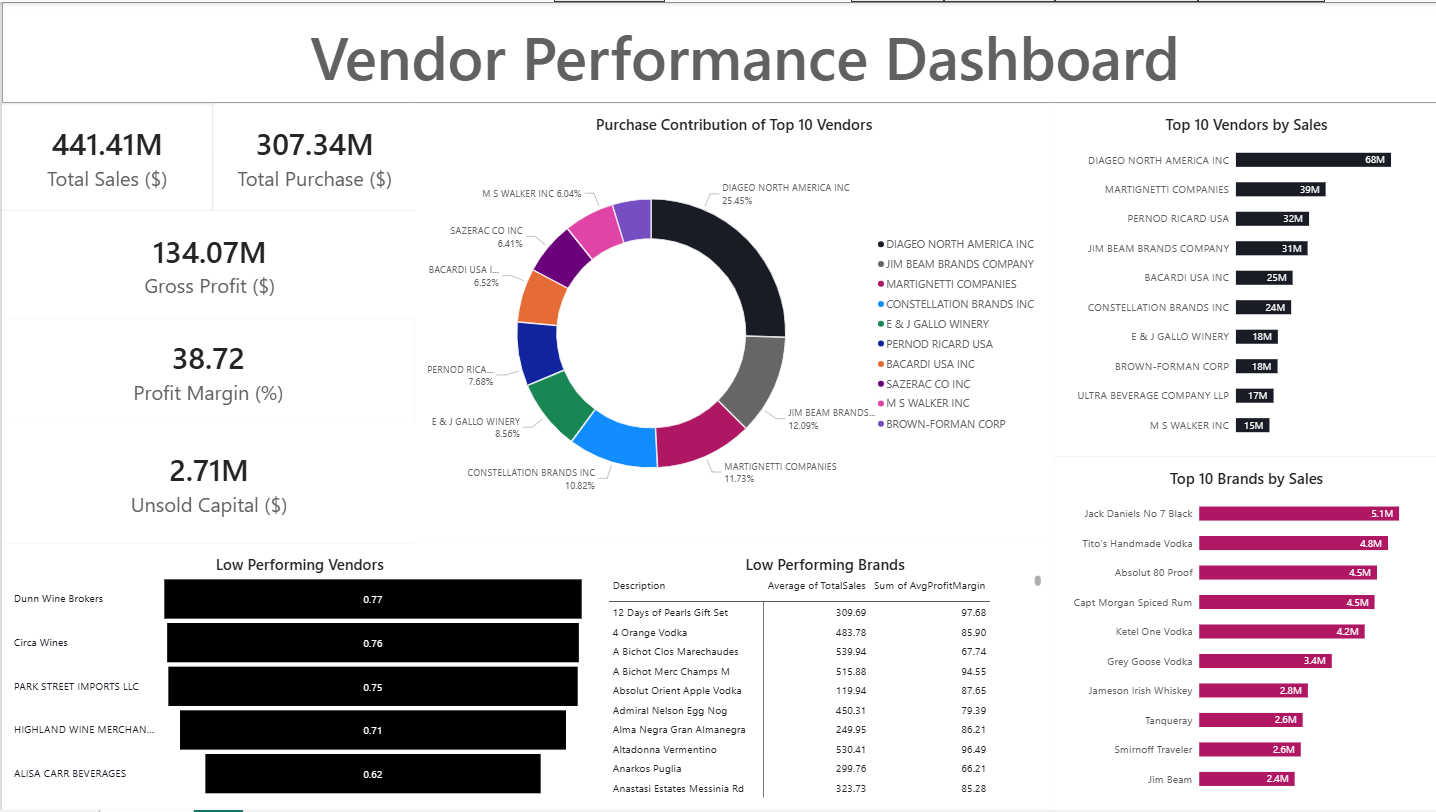

Layout of this report page (visuals, bound fields, positions):
{"tool":"powerbi","page":{"name":"Page 1","canvas":[1920,1080],"ordinal":0},"visuals":[{"type":"cardVisual","fields":{"Data":["Sum(vendor_sales_summary.TotalSalesDollars)"]},"box":[0,135,281.7,143.3],"z":0},{"type":"textbox","box":[0,0,1918.6,134.9],"z":4},{"type":"cardVisual","fields":{"Data":["Sum(vendor_sales_summary.TotalPurchaseDollars)"]},"box":[281.7,135,271.7,143.3],"z":6},{"type":"cardVisual","fields":{"Data":["Sum(vendor_sales_summary.GrossProfit)"]},"box":[0,278.3,555,143.3],"z":7},{"type":"cardVisual","fields":{"Data":["Avg(vendor_sales_summary.ProfitMargin)"]},"box":[0,421.7,551.7,141.7],"z":8},{"type":"cardVisual","fields":{"Data":["Sum(vendor_sales_summary.Unsold Capital)"]},"box":[0,563.3,553.3,160],"z":9},{"type":"donutChart","title":"Purchase Contribution of Top 10 Vendors","fields":{"Category":["PuchaseContribution.VendorName"],"Y":["Sum(PuchaseContribution.PurchaseContribution%)"]},"box":[551.2,134.9,853.5,588.4],"z":10},{"type":"clusteredBarChart","title":"Top 10 Vendors by Sales","fields":{"Category":["vendor_sales_summary.VendorName"],"Y":["Sum(vendor_sales_summary.TotalSalesDollars)"]},"box":[1404.7,134.9,516.3,472.1],"z":12},{"type":"clusteredBarChart","title":"Top 10 Brands by Sales","fields":{"Category":["vendor_sales_summary.Description"],"Y":["Sum(vendor_sales_summary.TotalSalesDollars)"]},"box":[1404.7,607,516.3,472.1],"z":13},{"type":"funnel","title":"Low Performing Vendors","fields":{"Category":["LowPerformingVendor.VendorName"],"Y":["Sum(LowPerformingVendor.AvgStockTurnOver)"]},"box":[0,723.3,795.3,355.8],"z":14},{"type":"pivotTable","title":"Low Performing Brands","fields":{"Rows":["BrandPerformance.Description"],"Values":["Avg(BrandPerformance.TotalSales)","Sum(BrandPerformance.AvgProfitMargin)"]},"box":[795.3,723.3,609.3,355.8],"z":15}]}

Visuals, with their boxes in screenshot pixels (x1, y1, x2, y2), scaled from the page's 1920x1080 canvas onto the 1436x812 screenshot:
cardVisual - Sum(vendor_sales_summary.TotalSalesDollars): [0, 102, 211, 209]
textbox: [0, 0, 1435, 101]
cardVisual - Sum(vendor_sales_summary.TotalPurchaseDollars): [211, 102, 414, 209]
cardVisual - Sum(vendor_sales_summary.GrossProfit): [0, 209, 415, 317]
cardVisual - Avg(vendor_sales_summary.ProfitMargin): [0, 317, 413, 424]
cardVisual - Sum(vendor_sales_summary.Unsold Capital): [0, 424, 414, 544]
"Purchase Contribution of Top 10 Vendors" donutChart: [412, 101, 1051, 544]
"Top 10 Vendors by Sales" clusteredBarChart: [1051, 101, 1435, 456]
"Top 10 Brands by Sales" clusteredBarChart: [1051, 456, 1435, 811]
"Low Performing Vendors" funnel: [0, 544, 595, 811]
"Low Performing Brands" pivotTable: [595, 544, 1051, 811]
